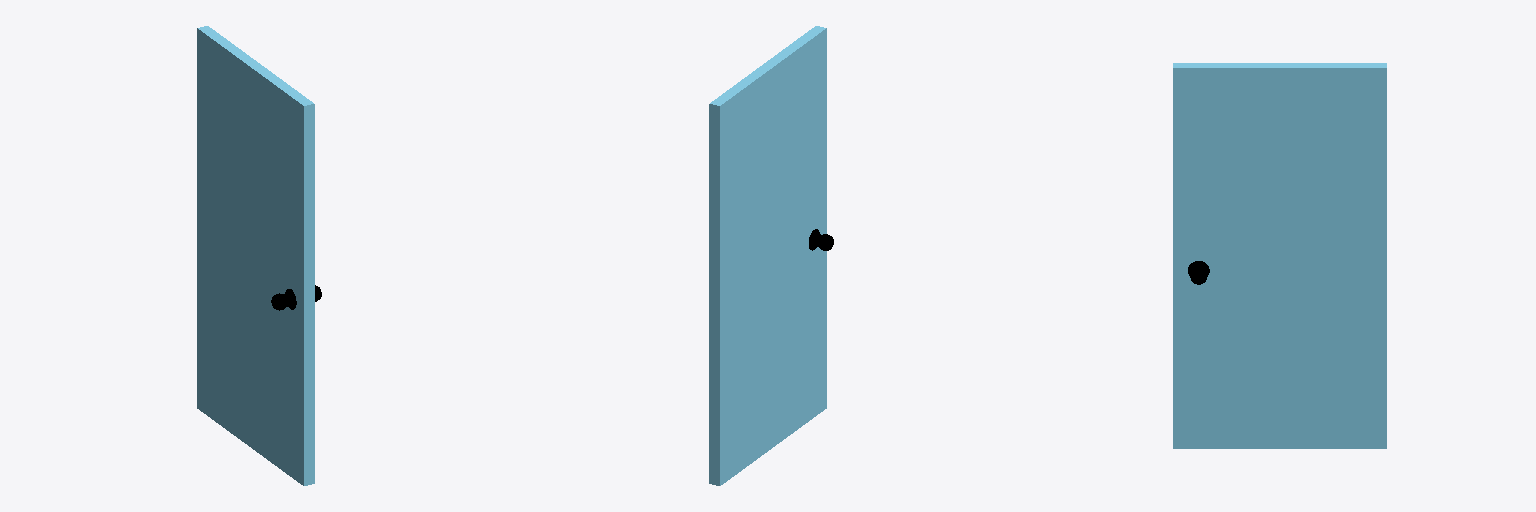
3 renders of one model, left to right at view 1: azimuth 30°, elevation 25°; view 2: azimuth 150°, elevation 25°; view 3: azimuth 270°, elevation 25°, orthographic.
Visible parts, largest first — view 1: PuertaInt:polySurface2268; view 2: PuertaInt:polySurface2268; view 3: PuertaInt:polySurface2268.
Part boxes in pixels (x1,y1,x2,y2): PuertaInt:polySurface2268: (197,26,321,485); PuertaInt:polySurface2268: (709,26,833,485); PuertaInt:polySurface2268: (1173,63,1386,448).
Size of the model in its own units: 0.2331 by 1.87 by 0.9532.
Materials: 2 (2 with a texture image).